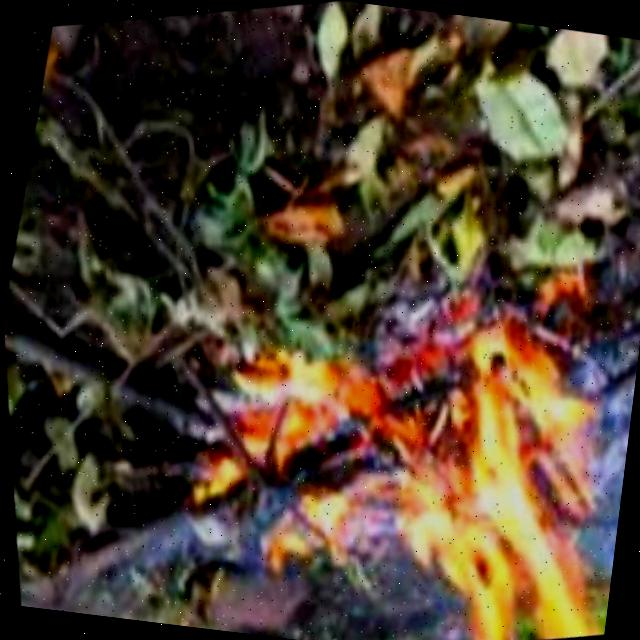fire: (319, 284, 640, 640), (205, 325, 404, 582)
